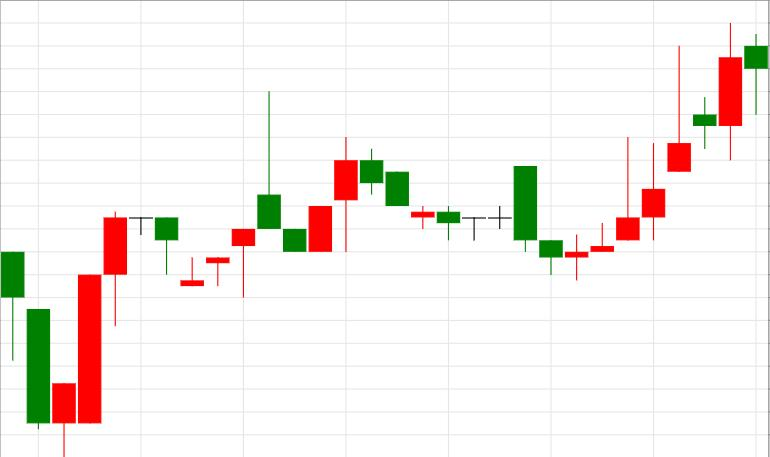shooting_star_fall: (564, 46, 691, 281), (180, 93, 282, 299)
